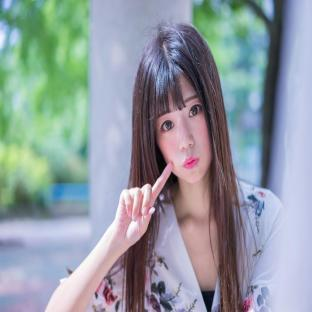Human: (47, 23, 285, 312)
